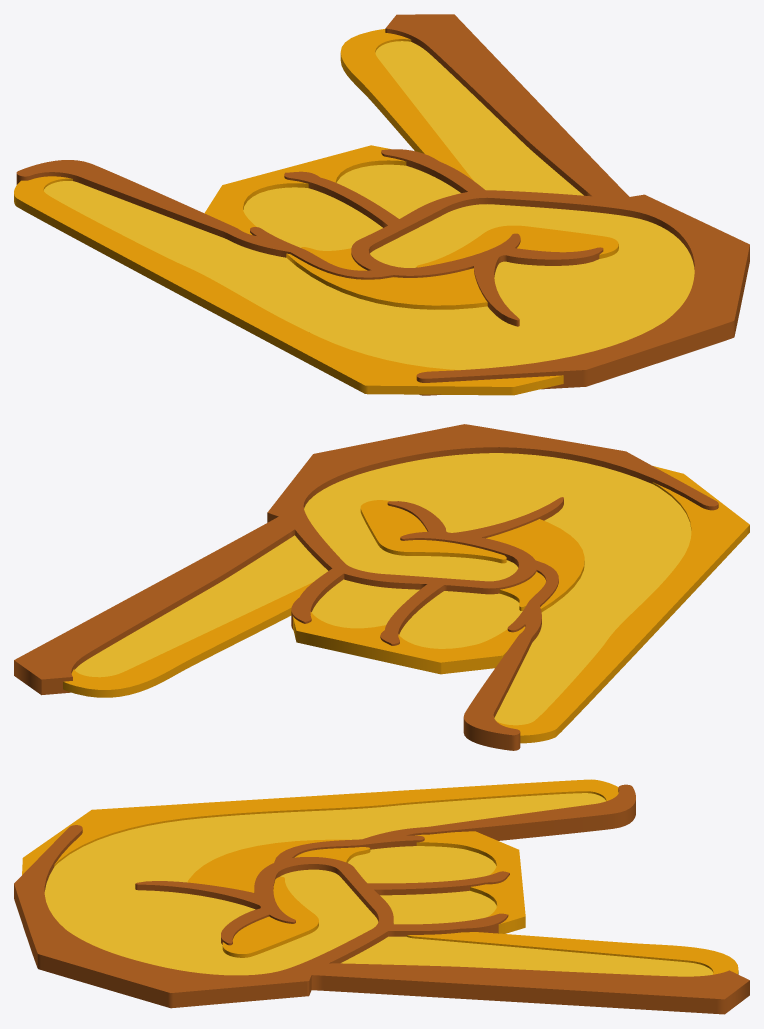
The model's file is emoji_u1f918.glb.
The picture shows the model from 3 angles, top to bottom: view 1: azimuth 30°, elevation 25°; view 2: azimuth 150°, elevation 25°; view 3: azimuth 270°, elevation 25°; orthographic projection. The views are drawn at different scales.
Visible parts, largest first — view 1: emoji_u1f918; view 2: emoji_u1f918; view 3: emoji_u1f918.
Part boxes in pixels (left/top/right/bottom): emoji_u1f918: left=14, top=14, right=749, bottom=395; emoji_u1f918: left=14, top=424, right=749, bottom=750; emoji_u1f918: left=14, top=779, right=749, bottom=1014.
Size of the model in its own units: 0.0254 by 0.0008 by 0.0353.
